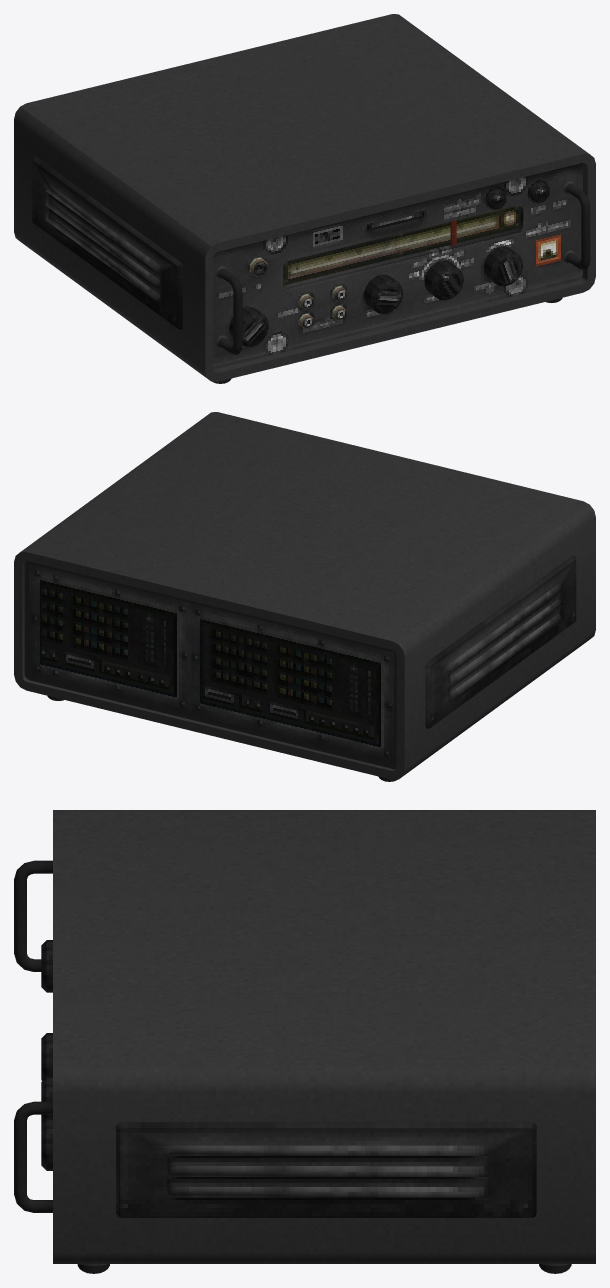
The model's file is military_radio_2.glb.
3 renders of one model, top to bottom at view 1: azimuth 30°, elevation 25°; view 2: azimuth 150°, elevation 25°; view 3: azimuth 270°, elevation 25°, orthographic. The views are drawn at different scales.
Visible parts, largest first — view 1: military_radio_2; view 2: military_radio_2; view 3: military_radio_2.
Boxes of the visible parts, box(x1,y1,x2,y2) form: military_radio_2: box(14, 14, 595, 383); military_radio_2: box(14, 412, 595, 781); military_radio_2: box(14, 810, 595, 1273).
Bounding box in the file's own units: 0.49 × 0.175 × 0.4288.
2 materials, 2 textured.
